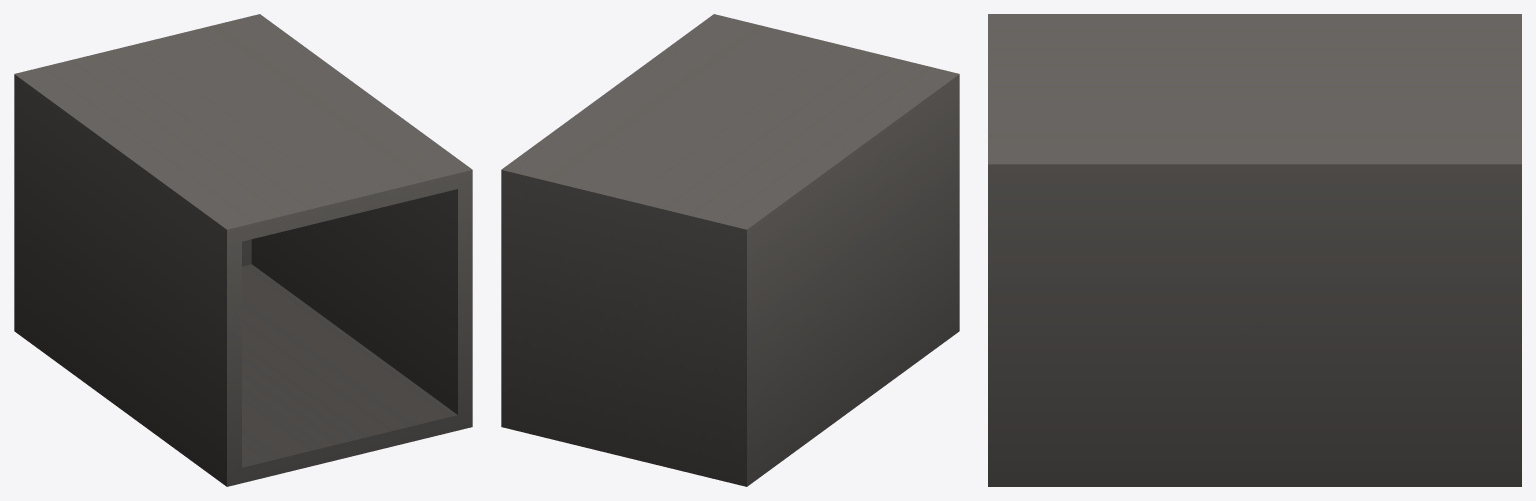
Rendered from FilingCabinetSingle_Case.fbx.
The picture shows the model from 3 angles, left to right: view 1: azimuth 30°, elevation 25°; view 2: azimuth 150°, elevation 25°; view 3: azimuth 270°, elevation 25°; orthographic projection. The views are drawn at different scales.
Visible parts, largest first — view 1: FilingCabinetSingle_Case; view 2: FilingCabinetSingle_Case; view 3: FilingCabinetSingle_Case.
Boxes of the visible parts, x1,y1,x2,y2 form: FilingCabinetSingle_Case: (14,14,472,486); FilingCabinetSingle_Case: (501,14,959,486); FilingCabinetSingle_Case: (988,14,1521,486).
Size of the model in its own units: 37.98 by 37.98 by 56.97.
